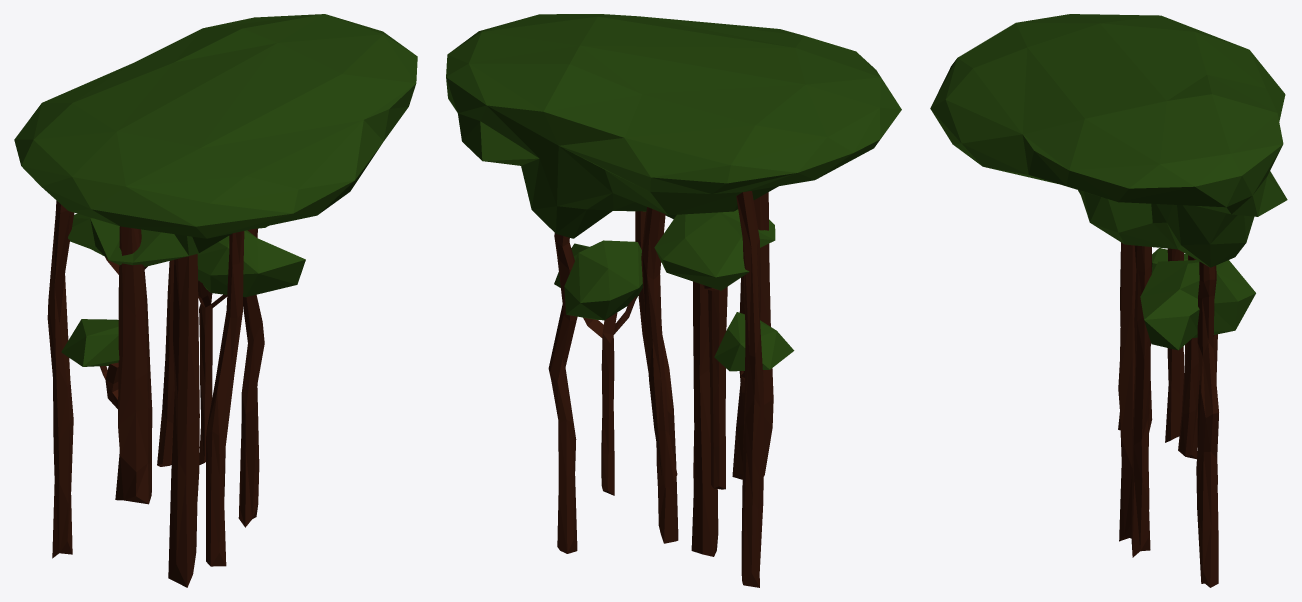
File: arbol1.obj
3 renders of one model, left to right at view 1: azimuth 30°, elevation 25°; view 2: azimuth 150°, elevation 25°; view 3: azimuth 270°, elevation 25°, orthographic.
Visible parts, largest first — view 1: Mball.010; view 2: Mball.010; view 3: Mball.010.
Part boxes in pixels (<box>): Mball.010: <box>14,14,417,587</box>; Mball.010: <box>446,14,901,587</box>; Mball.010: <box>930,14,1287,587</box>.
Size of the model in its own units: 29.9 by 36.55 by 23.85.
